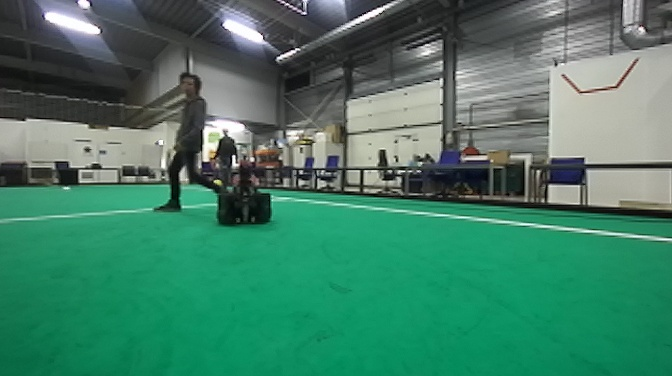human: (154, 72, 218, 216)
robot: (212, 140, 275, 229)
